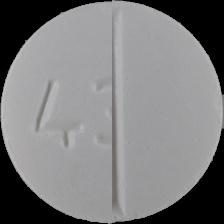62756-430: (0, 0, 224, 224)
